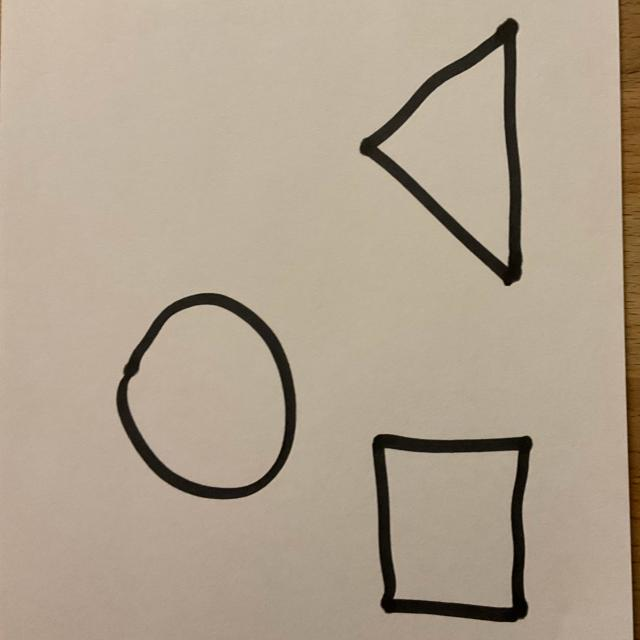Dreieck: (361, 19, 524, 287)
Kreis: (115, 293, 299, 503)
Quadrat: (370, 434, 534, 625)
